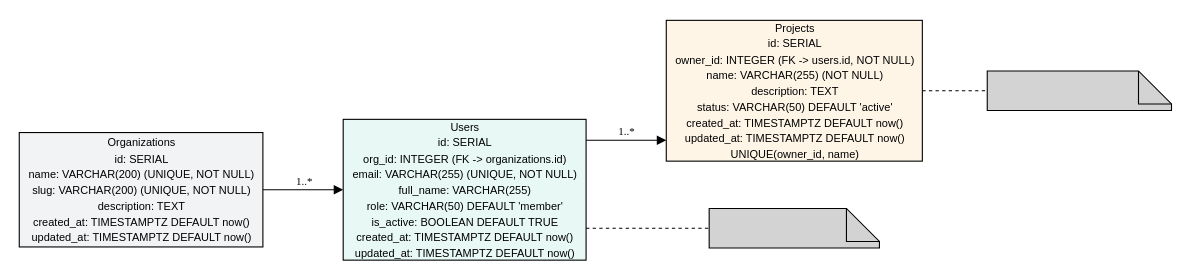
Image size: 1191x279. Some labels were removed from this diagram. The shapes that lost their labels are listed below. From the top down, each one's centre as x and y in pixels, then its label:
At point 1079,90: "owner_id FK ON DELETE CASCADE".
At point 793,227: "org_id FK ON DELETE SET NULL".
